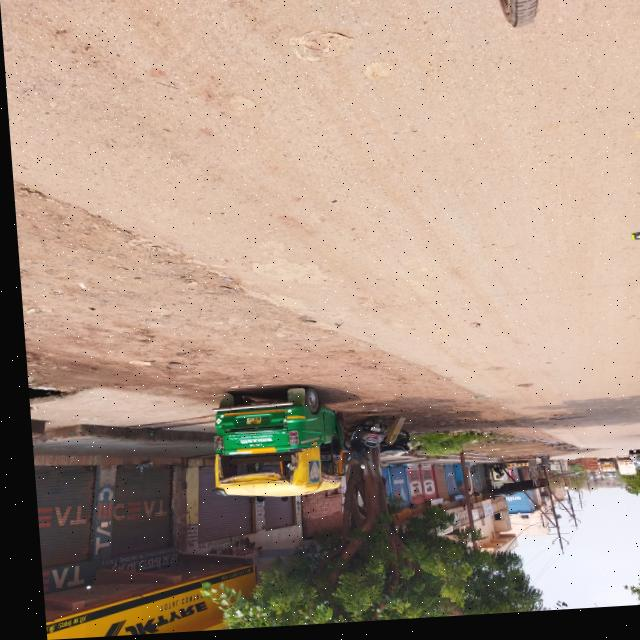plate: (238, 418, 258, 427)
